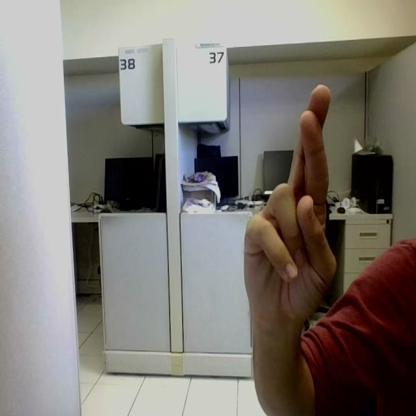R: (244, 84, 338, 315)
